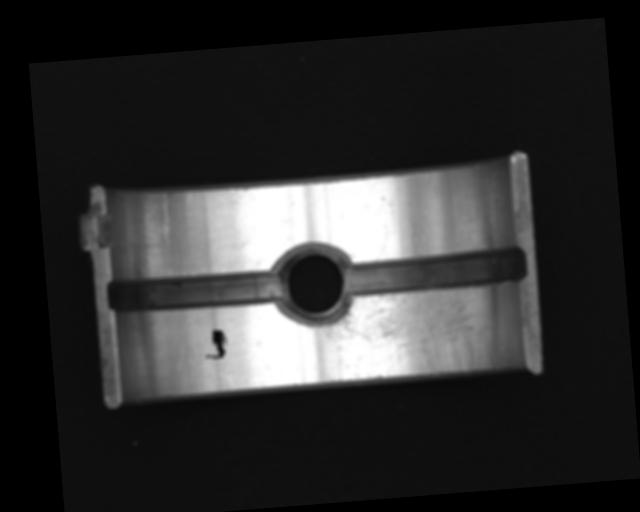blot: (203, 327, 228, 361)
gap: (344, 246, 528, 298), (106, 268, 283, 315)
hole: (271, 246, 355, 328)
nick: (158, 195, 173, 245)
scratch: (315, 285, 496, 382)
